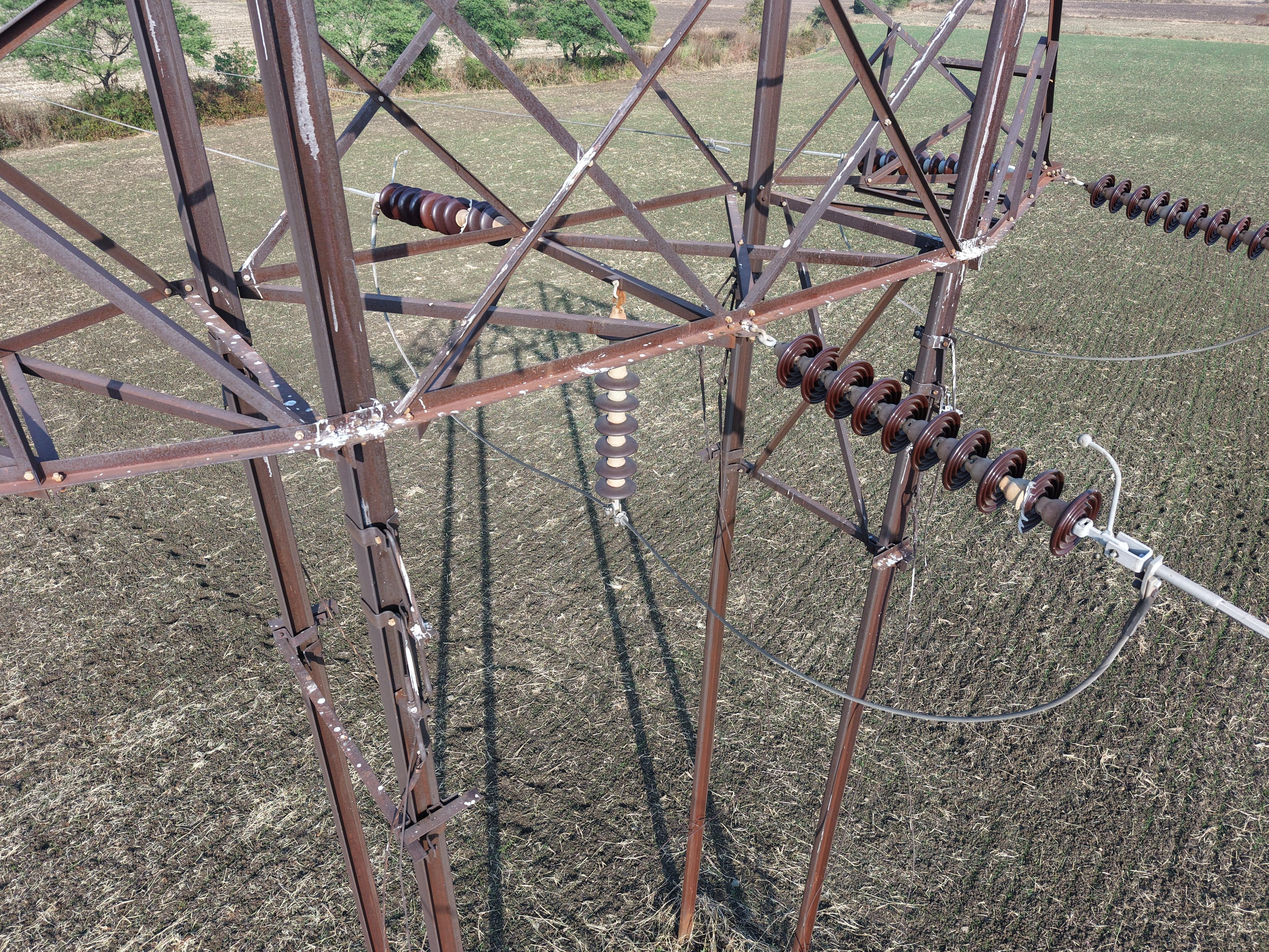broken_insulator: (1017, 468, 1066, 534), (458, 198, 479, 237)
